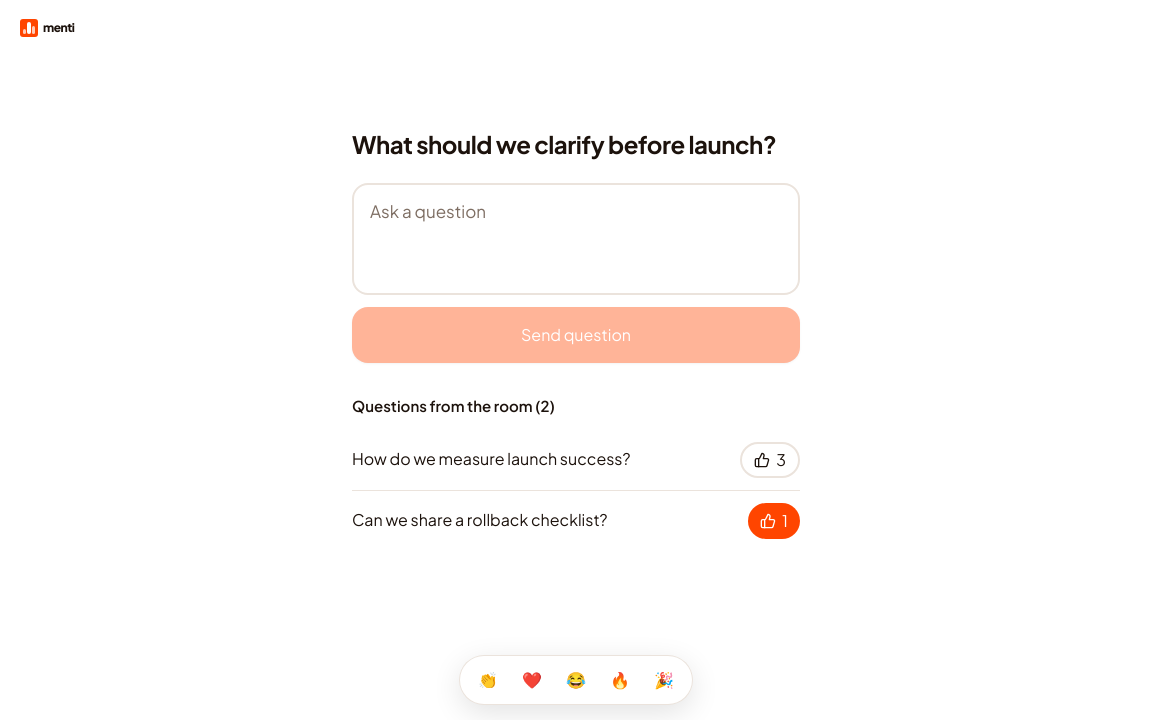
Test: VotePage › submits a q&a question while keeping the live queue visible
expect the heading "What should we clarify before launch?" is shown: met, box left=352, top=129, right=800, bottom=159
expect the text "How do we measure launch success?" is shown: met, box left=352, top=448, right=630, bottom=469
Type "What is our rollback plan?" into the text box named "your question".
click(576, 239); type("What is our rollback plan?")  # box left=352, top=183, right=800, bottom=295
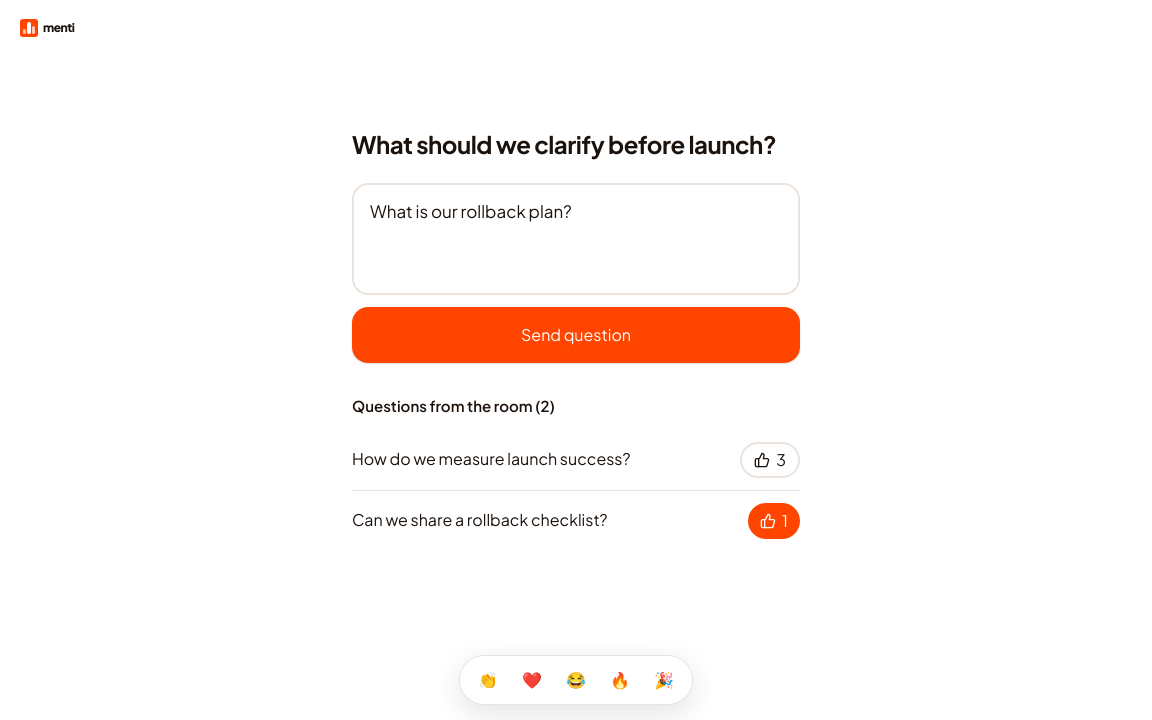
Click the button "Send question".
click(576, 335)  # box left=352, top=307, right=800, bottom=363
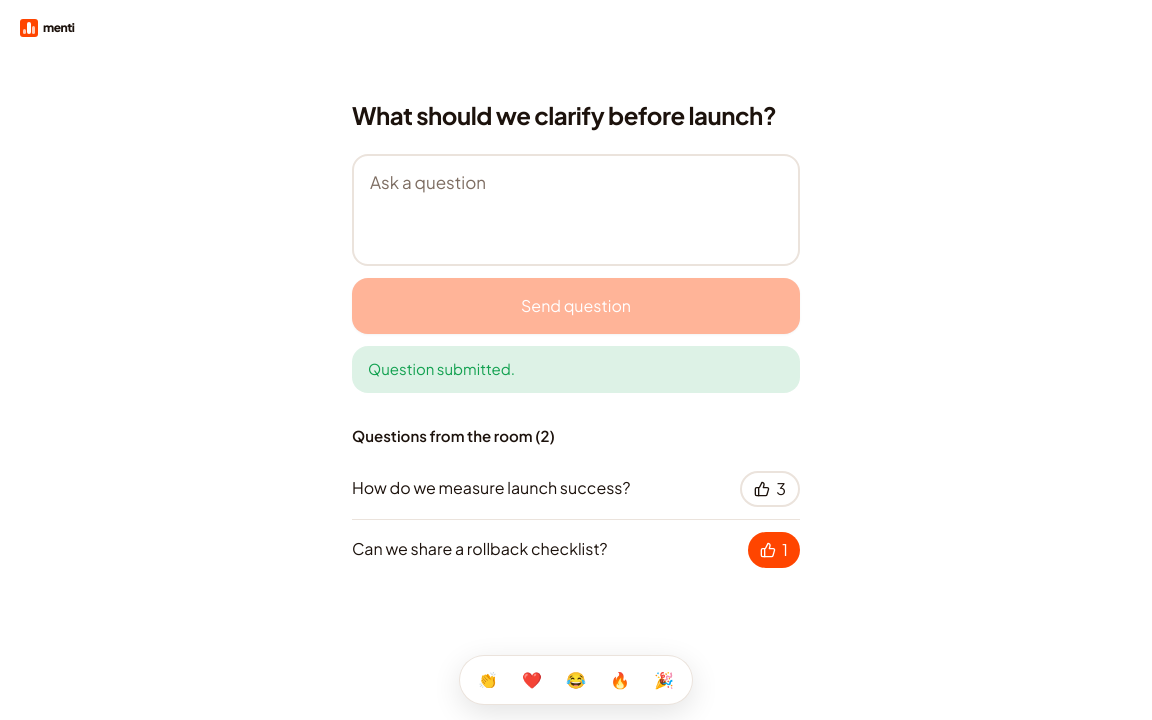
expect the text "Question submitted." is shown: met, box left=352, top=346, right=800, bottom=392
